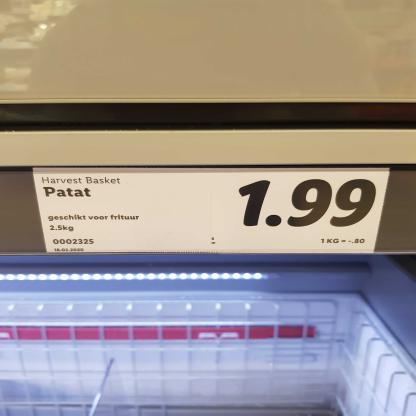prtg: (34, 169, 392, 254)
